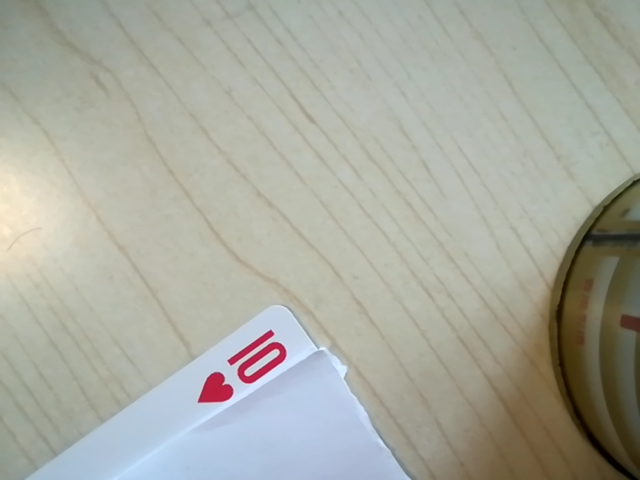hx 10: (188, 325, 301, 413)
